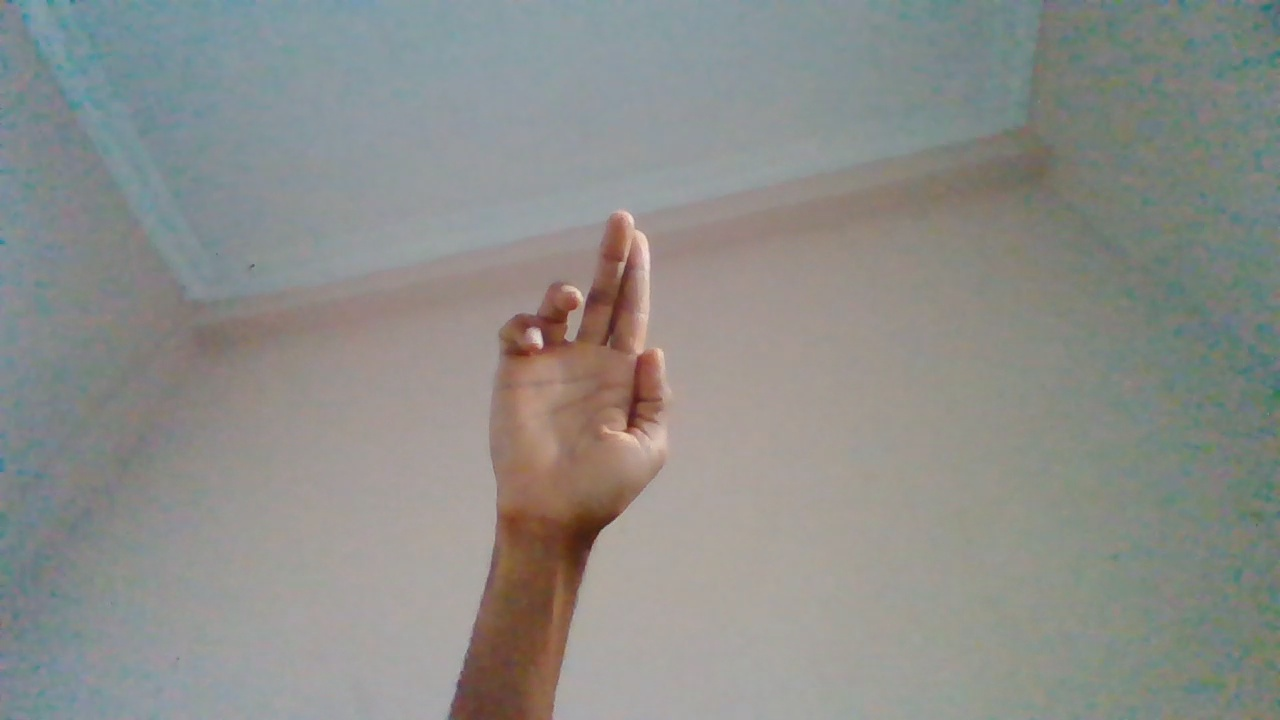gne: (486, 205, 672, 622)
